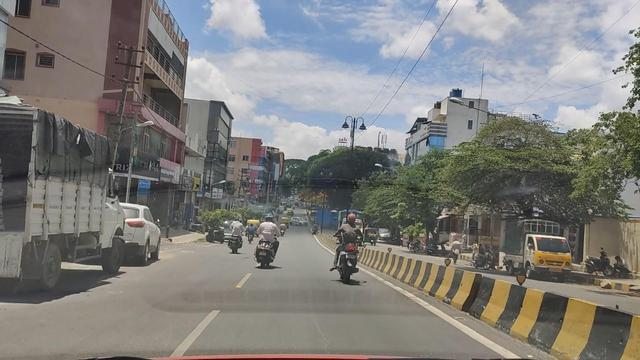HMV: (0, 100, 126, 290)
LMV: (314, 216, 371, 290), (252, 210, 284, 270)
